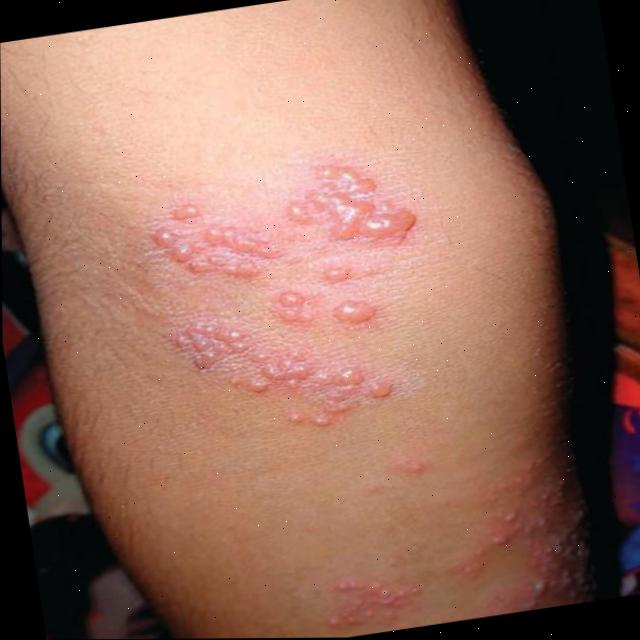Shingles: (141, 150, 444, 445), (323, 479, 599, 638)
